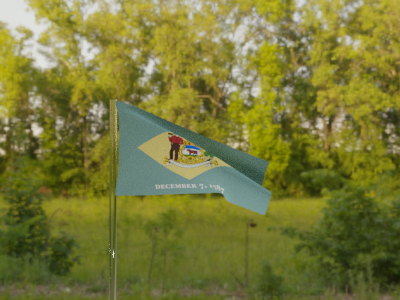Delaware flag: (115, 99, 272, 216)
